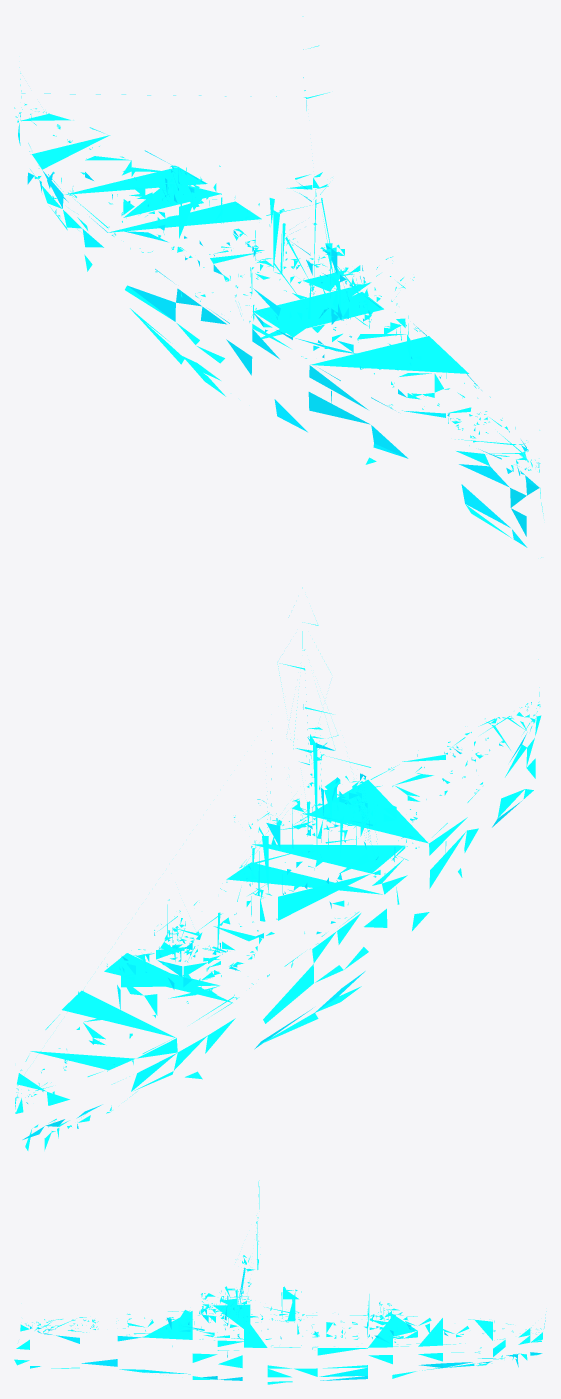
Rendered from Orion.glb.
3 renders of one model, top to bottom at view 1: azimuth 30°, elevation 25°; view 2: azimuth 150°, elevation 25°; view 3: azimuth 270°, elevation 25°, orthographic. The views are drawn at different scales.
Size of the model in its own units: 2.15 by 4.6 by 11.8.
